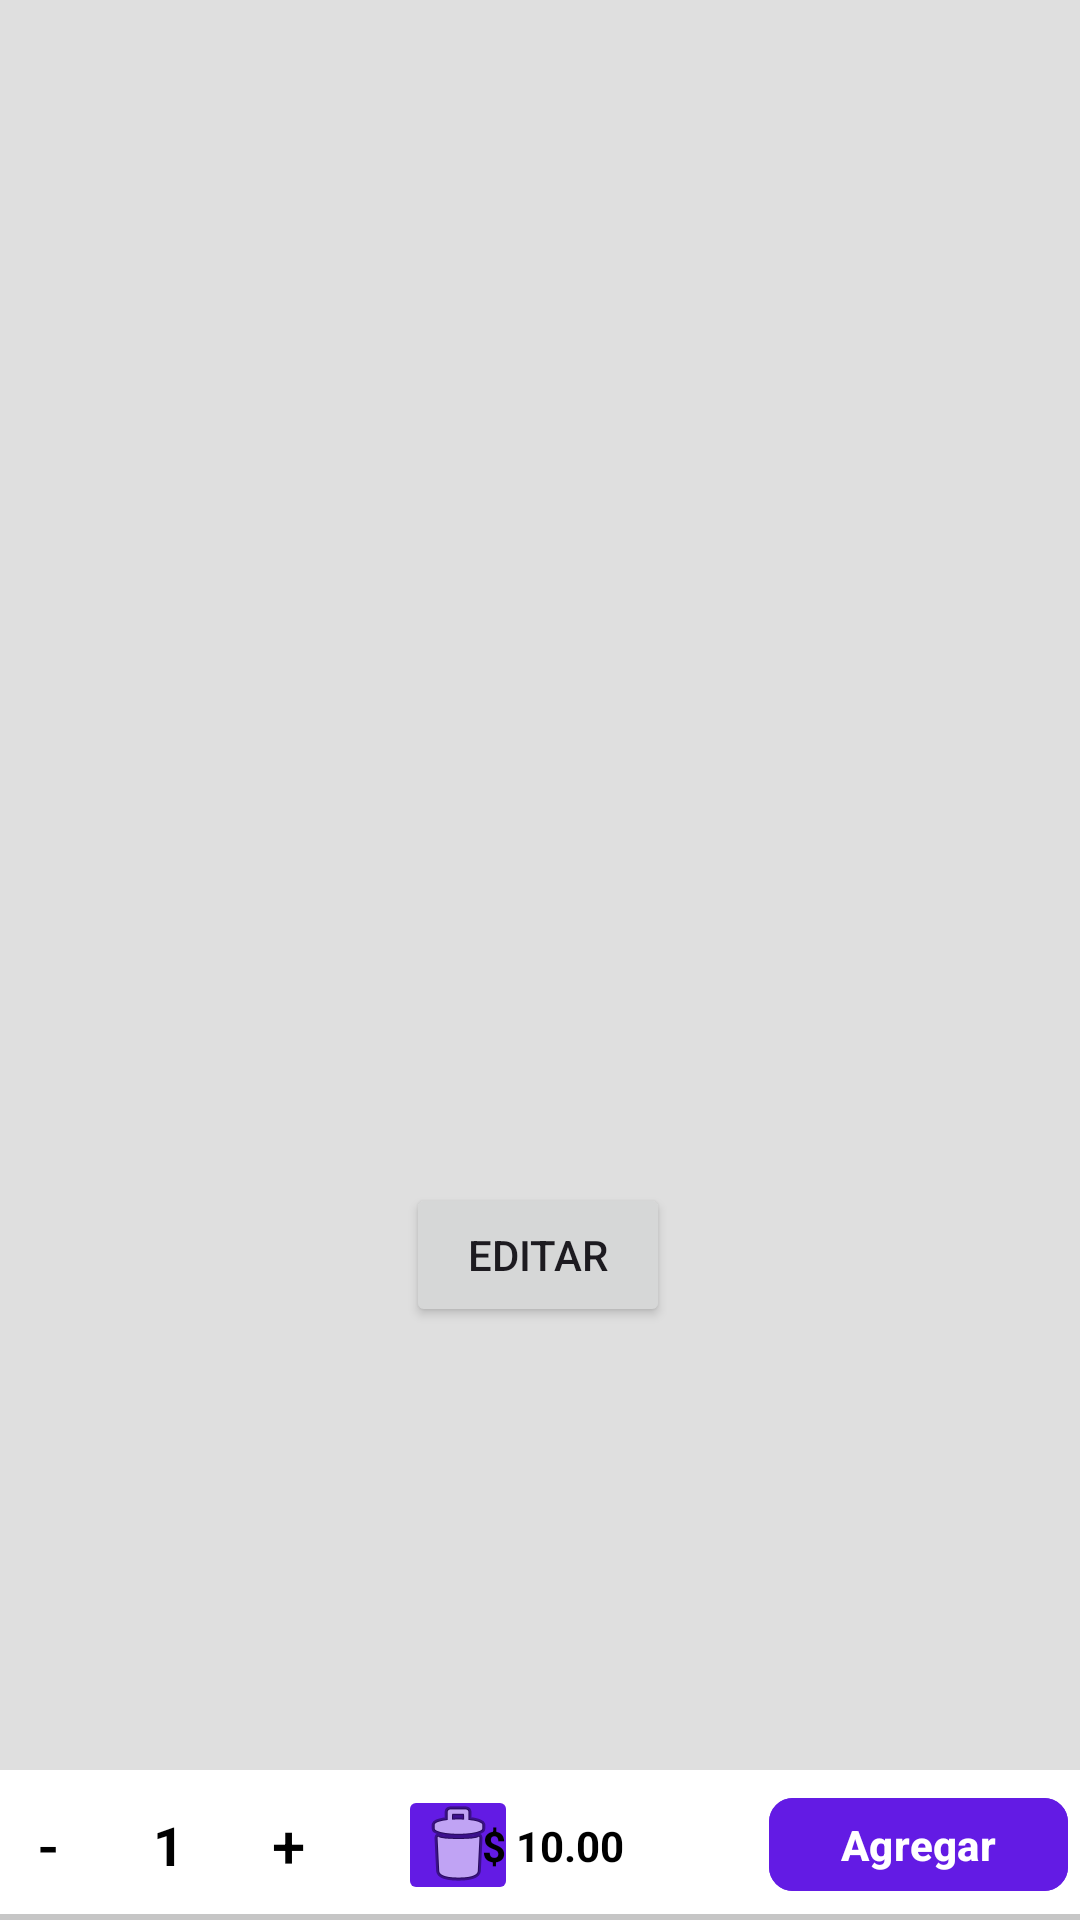

Icon click points for this 1080 × 1920 phone screenshot, format [x,y]:
delete: [458,1845]
